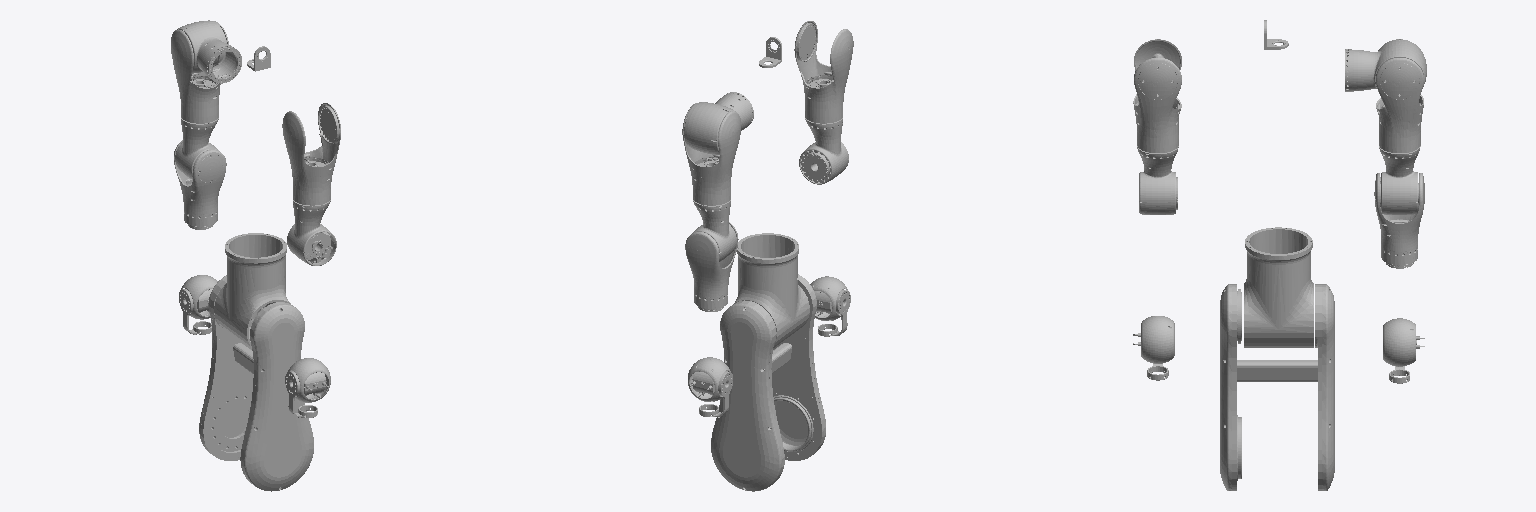
--- Render facts (derived) ---
The picture shows the robot from 3 angles, left to right: view 1: azimuth 30°, elevation 25°; view 2: azimuth 150°, elevation 25°; view 3: azimuth 270°, elevation 25°; orthographic projection.
Robot: CrpRobotDescription — 21 links, 20 joints (20 revolute); root link AMR_link; default pose: all joints at 0.
Visible links, largest first — view 1: thigh_Link, waist_Link, right_uperarm_Link, left_uperarm_Link, left_forearm_Link, leftshd_Link, right_elbow_Link, left_elbow_Link, right_wrist_Link, left_wrist_Link, right_hand_Link, left_hand_Link; view 2: thigh_Link, waist_Link, right_uperarm_Link, left_uperarm_Link, left_forearm_Link, leftshd_Link, right_elbow_Link, left_elbow_Link, left_wrist_Link, right_wrist_Link, left_hand_Link, right_hand_Link; view 3: thigh_Link, waist_Link, right_uperarm_Link, left_uperarm_Link, left_forearm_Link, right_elbow_Link, left_elbow_Link, leftshd_Link, right_wrist_Link, left_wrist_Link.
Boxes of the visible links, x1,y1,x2,y2 form: thigh_Link: (199,275,313,491); waist_Link: (214,233,290,347); right_uperarm_Link: (282,103,340,205); left_uperarm_Link: (171,21,228,123); left_forearm_Link: (174,140,226,229); leftshd_Link: (177,20,241,83); right_elbow_Link: (287,200,336,265); left_elbow_Link: (175,118,218,179); right_wrist_Link: (288,358,330,402); left_wrist_Link: (181,275,217,319); right_hand_Link: (285,371,317,417); left_hand_Link: (179,289,211,334); thigh_Link: (711,274,825,491); waist_Link: (734,233,809,347); right_uperarm_Link: (794,21,853,123); left_uperarm_Link: (682,103,740,205); left_forearm_Link: (685,222,738,311); leftshd_Link: (684,92,753,154); right_elbow_Link: (799,118,848,184); left_elbow_Link: (693,200,736,261); left_wrist_Link: (688,357,730,401); right_wrist_Link: (810,276,847,320); left_hand_Link: (699,371,732,416); right_hand_Link: (818,290,850,336); thigh_Link: (1220,284,1334,490); waist_Link: (1244,227,1313,347); right_uperarm_Link: (1133,39,1181,152); left_uperarm_Link: (1376,39,1423,152); left_forearm_Link: (1374,173,1424,268); right_elbow_Link: (1137,146,1178,214); left_elbow_Link: (1379,146,1420,214); leftshd_Link: (1345,39,1426,91); right_wrist_Link: (1133,316,1174,363); left_wrist_Link: (1383,318,1424,366).
Bounding box of the posed robot: 0.1799 × 0.6073 × 1.06 m (x, y, z).
Meshes: 21 distinct files referenced, 13 mesh visuals loaded (13 binary STL); not drawn: 8 (reference not matched to a file when rendering).

URDF robot description (CrpRobotDescription):
<?xml version="1.0" encoding="utf-8"?>
<!-- This URDF was automatically created by SolidWorks to URDF Exporter! Originally created by Stephen Brawner ([email redacted]) 
     Commit Version: 1.6.0-4-g7f85cfe  Build Version: 1.6.7995.38578
     For more information, please see http://wiki.ros.org/sw_urdf_exporter -->
<robot
  name="CrpRobotDescription">
  <link
    name="AMR_link">
    <inertial>
      <origin
        xyz="1.7067250104595E-06 -0.000630534395126906 0.23498436460573"
        rpy="0 0 0" />
      <mass
        value="15.6838298790596" />
      <inertia
        ixx="0.29273067004881"
        ixy="-0.000892145751909648"
        ixz="1.19710141560885E-08"
        iyy="0.621397679549303"
        iyz="-4.30982823485956E-06"
        izz="0.899723888567382" />
    </inertial>
    <visual>
      <origin
        xyz="0 0 0"
        rpy="0 0 0" />
      <geometry>
        <mesh
          filename="package://CrpRobotDescription/meshes/AMR_link.STL" />
      </geometry>
      <material
        name="">
        <color
          rgba="0.752941176470588 0.752941176470588 0.752941176470588 1" />
      </material>
    </visual>
    <collision>
      <origin
        xyz="0 0 0"
        rpy="0 0 0" />
      <geometry>
        <mesh
          filename="package://CrpRobotDescription/meshes/AMR_link.STL" />
      </geometry>
    </collision>
  </link>
  <link
    name="calf_Link">
    <inertial>
      <origin
        xyz="-1.9907E-07 0.013119 0.13964"
        rpy="0 0 0" />
      <mass
        value="19.211" />
      <inertia
        ixx="0.11342"
        ixy="-3.3299E-08"
        ixz="-2.8761E-08"
        iyy="0.11044"
        iyz="0.0004617"
        izz="0.062754" />
    </inertial>
    <visual>
      <origin
        xyz="0 0 0"
        rpy="0 0 0" />
      <geometry>
        <mesh
          filename="package://CrpRobotDescription/meshes/calf_Link.STL" />
      </geometry>
      <material
        name="">
        <color
          rgba="0.75294 0.75294 0.75294 1" />
      </material>
    </visual>
    <collision>
      <origin
        xyz="0 0 0"
        rpy="0 0 0" />
      <geometry>
        <mesh
          filename="package://CrpRobotDescription/meshes/calf_Link.STL" />
      </geometry>
    </collision>
  </link>
  <joint
    name="JT_ankle_pitch"
    type="revolute">
    <origin
      xyz="0 0 0.344"
      rpy="0 0 0" />
    <parent
      link="AMR_link" />
    <child
      link="calf_Link" />
    <axis
      xyz="0 -1 0" />
    <limit
      lower="-1.57"
      upper="1.57"
      effort="0"
      velocity="0" />
  </joint>
  <link
    name="thigh_Link">
    <inertial>
      <origin
        xyz="-1.2883E-07 -0.0050028 0.12937"
        rpy="0 0 0" />
      <mass
        value="3.6191" />
      <inertia
        ixx="0.041564"
        ixy="-4.7332E-10"
        ixz="-1.3554E-07"
        iyy="0.047009"
        iyz="0.00041827"
        izz="0.0074734" />
    </inertial>
    <visual>
      <origin
        xyz="0 0 0"
        rpy="0 0 0" />
      <geometry>
        <mesh
          filename="package://CrpRobotDescription/meshes/thigh_Link.STL" />
      </geometry>
      <material
        name="">
        <color
          rgba="0.75294 0.75294 0.75294 1" />
      </material>
    </visual>
    <collision>
      <origin
        xyz="0 0 0"
        rpy="0 0 0" />
      <geometry>
        <mesh
          filename="package://CrpRobotDescription/meshes/thigh_Link.STL" />
      </geometry>
    </collision>
  </link>
  <joint
    name="JT_knee_pitch"
    type="revolute">
    <origin
      xyz="0 0 0.28"
      rpy="0 0 0" />
    <parent
      link="calf_Link" />
    <child
      link="thigh_Link" />
    <axis
      xyz="0 -1 0" />
    <!-- <limit
      lower="-2.093"
      upper="2.093"
      effort="0"
      velocity="0" /> -->
    <limit
      lower="-1.571"
      upper="1.571"
      effort="0"
      velocity="0" />
  </joint>
  <link
    name="waist_Link">
    <inertial>
      <origin
        xyz="3.08982177258082E-08 0.00746163747499071 0.0708223424260894"
        rpy="0 0 0" />
      <mass
        value="11.0697374901141" />
      <inertia
        ixx="0.0269084125958022"
        ixy="1.3917210472165E-07"
        ixz="1.35564028293498E-08"
        iyy="0.0248391541928932"
        iyz="0.000208916767385605"
        izz="0.0207393365737641" />
    </inertial>
    <visual>
      <origin
        xyz="0 0 0"
        rpy="0 0 0" />
      <geometry>
        <mesh
          filename="package://CrpRobotDescription/meshes/waist_Link.STL" />
      </geometry>
      <material
        name="">
        <color
          rgba="0.752941176470588 0.752941176470588 0.752941176470588 1" />
      </material>
    </visual>
    <collision>
      <origin
        xyz="0 0 0"
        rpy="0 0 0" />
      <geometry>
        <mesh
          filename="package://CrpRobotDescription/meshes/waist_Link.STL" />
      </geometry>
    </collision>
  </link>
  <joint
    name="JT_waist_pitch"
    type="revolute">
    <origin
      xyz="0 0 0.3"
      rpy="0 0 0" />
    <parent
      link="thigh_Link" />
    <child
      link="waist_Link" />
    <axis
      xyz="0 -1 0" />
    <!-- <limit
      lower="-2.093"
      upper="2.093"
      effort="0"
      velocity="0" /> -->
      <limit
      lower="-1.571"
      upper="1.571"
      effort="0"
      velocity="0" />
  </joint>
  <link
    name="body_Link">
    <inertial>
      <origin
        xyz="-0.0157302561834629 -0.000921159048584068 0.26491560483905"
        rpy="0 0 0" />
      <mass
        value="11.5278159662407" />
      <inertia
        ixx="0.0917732697191284"
        ixy="5.55557523543435E-06"
        ixz="-0.00184407199578961"
        iyy="0.0777548884223376"
        iyz="7.9609997315152E-05"
        izz="0.0530884459020407" />
    </inertial>
    <visual>
      <origin
        xyz="0 0 0"
        rpy="0 0 0" />
      <geometry>
        <mesh
          filename="package://CrpRobotDescription/meshes/body_Link.STL" />
      </geometry>
      <material
        name="">
        <color
          rgba="0.752941176470588 0.752941176470588 0.752941176470588 1" />
      </material>
    </visual>
    <collision>
      <origin
        xyz="0 0 0"
        rpy="0 0 0" />
      <geometry>
        <mesh
          filename="package://CrpRobotDescription/meshes/body_Link.STL" />
      </geometry>
    </collision>
  </link>
  <joint
    name="JT_waist_yaw"
    type="revolute">
    <origin
      xyz="0 0 0.16"
      rpy="0 0 0" />
    <parent
      link="waist_Link" />
    <child
      link="body_Link" />
    <axis
      xyz="0 0 -1" />
    <limit
      lower="-3.1416"
      upper="3.1416"
      effort="0"
      velocity="0" />
  </joint>
  <link
    name="neck_Link">
    <inertial>
      <origin
        xyz="9.45679100606626E-16 -0.0137500941466434 0.00912839009985378"
        rpy="0 0 0" />
      <mass
        value="0.0237571247428503" />
      <inertia
        ixx="4.88516309171337E-06"
        ixy="8.43724224804088E-23"
        ixz="-1.15917067365382E-21"
        iyy="5.16930498087681E-06"
        iyz="-2.12533733733979E-08"
        izz="6.83012107406235E-06" />
    </inertial>
    <visual>
      <origin
        xyz="0 0 0"
        rpy="0 0 0" />
      <geometry>
        <mesh
          filename="package://CrpRobotDescription/meshes/neck_Link.STL" />
      </geometry>
      <material
        name="">
        <color
          rgba="0.752941176470588 0.752941176470588 0.752941176470588 1" />
      </material>
    </visual>
    <collision>
      <origin
        xyz="0 0 0"
        rpy="0 0 0" />
      <geometry>
        <mesh
          filename="package://CrpRobotDescription/meshes/neck_Link.STL" />
      </geometry>
    </collision>
  </link>
  <joint
    name="JT_head_yaw"
    type="revolute">
    <origin
      xyz="0 0 0.457"
      rpy="0 0 0" />
    <parent
      link="body_Link" />
    <child
      link="neck_Link" />
    <axis
      xyz="0 0 1" />
    <limit
      lower="-3.14"
      upper="3.14"
      effort="0"
      velocity="0" />
  </joint>
  <link
    name="head_Link">
    <inertial>
      <origin
        xyz="0.0155377524095807 0.0247052496791913 0.126485391722255"
        rpy="0 0 0" />
      <mass
        value="1.21249497507802" />
      <inertia
        ixx="0.00468790853060461"
        ixy="-4.51995700321224E-07"
        ixz="2.99050148402908E-05"
        iyy="0.00401641938151872"
        iyz="-3.59037238584987E-06"
        izz="0.00477006543276291" />
    </inertial>
    <visual>
      <origin
        xyz="0 0 0"
        rpy="0 0 0" />
      <geometry>
        <mesh
          filename="package://CrpRobotDescription/meshes/head_Link.STL" />
      </geometry>
      <material
        name="">
        <color
          rgba="0.752941176470588 0.752941176470588 0.752941176470588 1" />
      </material>
    </visual>
    <collision>
      <origin
        xyz="0 0 0"
        rpy="0 0 0" />
      <geometry>
        <mesh
          filename="package://CrpRobotDescription/meshes/head_Link.STL" />
      </geometry>
    </collision>
  </link>
  <joint
    name="JT_head_pitch"
    type="revolute">
    <origin
      xyz="0 -0.025 0.035"
      rpy="0 0 0" />
    <parent
      link="neck_Link" />
    <child
      link="head_Link" />
    <axis
      xyz="0 -1 0" />
    <limit
      lower="-0.734"
      upper="1.467"
      effort="0"
      velocity="0" />
  </joint>
  <link
    name="leftshd_Link">
    <inertial>
      <origin
        xyz="0.00560451544572575 0.0752684073133717 -3.17283219364306E-06"
        rpy="0 0 0" />
      <mass
        value="1.51462230972284" />
      <inertia
        ixx="0.00138091319626636"
        ixy="-2.90093852134569E-06"
        ixz="3.40418749991194E-09"
        iyy="0.00124128503134948"
        iyz="2.66878486378639E-08"
        izz="0.00135309461283093" />
    </inertial>
    <visual>
      <origin
        xyz="0 0 0"
        rpy="0 0 0" />
      <geometry>
        <mesh
          filename="package://CrpRobotDescription/meshes/leftshd_Link.STL" />
      </geometry>
      <material
        name="">
        <color
          rgba="0.752941176470588 0.752941176470588 0.752941176470588 1" />
      </material>
    </visual>
    <collision>
      <origin
        xyz="0 0 0"
        rpy="0 0 0" />
      <geometry>
        <mesh
          filename="package://CrpRobotDescription/meshes/leftshd_Link.STL" />
      </geometry>
    </collision>
  </link>
  <joint
    name="JT_leftshd_pitch"
    type="revolute">
    <origin
      xyz="0 0.165 0.4"
      rpy="0 0 0" />
    <parent
      link="body_Link" />
    <child
      link="leftshd_Link" />
    <axis
      xyz="0 -1 0" />
    <limit
      lower="-3.14"
      upper="3.14"
      effort="0"
      velocity="0" />
  </joint>
  <link
    name="left_uperarm_Link">
    <inertial>
      <origin
        xyz="0.0013528 0.00040387 -0.10882"
        rpy="0 0 0" />
      <mass
        value="1.3479" />
      <inertia
        ixx="0.0021852"
        ixy="5.3642E-07"
        ixz="1.231E-07"
        iyy="0.0019874"
        iyz="9.0639E-06"
        izz="0.00081159" />
    </inertial>
    <visual>
      <origin
        xyz="0 0 0"
        rpy="0 0 0" />
      <geometry>
        <mesh
          filename="package://CrpRobotDescription/meshes/left_uperarm_Link.STL" />
      </geometry>
      <material
        name="">
        <color
          rgba="0.75294 0.75294 0.75294 1" />
      </material>
    </visual>
    <collision>
      <origin
        xyz="0 0 0"
        rpy="0 0 0" />
      <geometry>
        <mesh
          filename="package://CrpRobotDescription/meshes/left_uperarm_Link.STL" />
      </geometry>
    </collision>
  </link>
  <joint
    name="JT_leftshd_roll"
    type="revolute">
    <origin
      xyz="-0.00022992 0.084701 0"
      rpy="0 0 0" />
    <parent
      link="leftshd_Link" />
    <child
      link="left_uperarm_Link" />
    <axis
      xyz="1 0 0" />
    <!-- <limit
      lower="0"
      upper="3.14"
      effort="0"
      velocity="0" /> -->
    <limit
      lower="-3.14"
      upper="3.14"
      effort="0"
      velocity="0" />
  </joint>
  <link
    name="left_elbow_Link">
    <inertial>
      <origin
        xyz="-0.000469035624493089 -0.00773012087866784 0.0103684255989351"
        rpy="0 0 0" />
      <mass
        value="1.24768830275529" />
      <inertia
        ixx="0.00121532572681743"
        ixy="6.54388475224281E-09"
        ixz="1.99981226434696E-05"
        iyy="0.00133413492028562"
        iyz="4.76396943963314E-10"
        izz="0.000775182411508688" />
    </inertial>
    <visual>
      <origin
        xyz="0 0 0"
        rpy="0 0 0" />
      <geometry>
        <mesh
          filename="package://CrpRobotDescription/meshes/left_elbow_Link.STL" />
      </geometry>
      <material
        name="">
        <color
          rgba="0.752941176470588 0.752941176470588 0.752941176470588 1" />
      </material>
    </visual>
    <collision>
      <origin
        xyz="0 0 0"
        rpy="0 0 0" />
      <geometry>
        <mesh
          filename="package://CrpRobotDescription/meshes/left_elbow_Link.STL" />
      </geometry>
    </collision>
  </link>
  <joint
    name="JT_leftshd_yaw"
    type="revolute">
    <origin
      xyz="0 0 -0.28"
      rpy="0 0 0" />
    <parent
      link="left_uperarm_Link" />
    <child
      link="left_elbow_Link" />
    <axis
      xyz="0 0 -1" />
    <limit
      lower="-3.14"
      upper="3.14"
      effort="0"
      velocity="0" />
  </joint>
  <link
    name="left_forearm_Link">
    <inertial>
      <origin
        xyz="0.00170875791311913 2.09454223620564E-05 -0.115440636276309"
        rpy="0 0 0" />
      <mass
        value="0.838030981878656" />
      <inertia
        ixx="0.000681410407682389"
        ixy="1.76068509156145E-07"
        ixz="4.93380589793723E-06"
        iyy="0.000746089581983907"
        iyz="-1.15469925730019E-05"
        izz="0.000350947107881828" />
    </inertial>
    <visual>
      <origin
        xyz="0 0 0"
        rpy="0 0 0" />
      <geometry>
        <mesh
          filename="package://CrpRobotDescription/meshes/left_forearm_Link.STL" />
      </geometry>
      <material
        name="">
        <color
          rgba="0.752941176470588 0.752941176470588 0.752941176470588 1" />
      </material>
    </visual>
    <collision>
      <origin
        xyz="0 0 0"
        rpy="0 0 0" />
      <geometry>
        <mesh
          filename="package://CrpRobotDescription/meshes/left_forearm_Link.STL" />
      </geometry>
    </collision>
  </link>
  <joint
    name="JT_leftelbow_pitch"
    type="revolute">
    <origin
      xyz="0 0 0"
      rpy="0 0 0" />
    <parent
      link="left_elbow_Link" />
    <child
      link="left_forearm_Link" />
    <axis
      xyz="0 -1 0" />
    <!-- <limit
      lower="-2.617"
      upper="0"
      effort="0"
      velocity="0" /> -->
    <limit
      lower="-1.571"
      upper="1.927"
      effort="0"
      velocity="0" />
  </joint>
  <link
    name="left_fa_Link">
    <inertial>
      <origin
        xyz="0.00138547739780884 0.00787804338462211 -0.0937607749202922"
        rpy="0 0 0" />
      <mass
        value="1.0436993253593" />
      <inertia
        ixx="0.00211878328999715"
        ixy="-1.3857899093755E-06"
        ixz="2.08078554284944E-05"
        iyy="0.00230055998833744"
        iyz="0.000106700060266832"
        izz="0.000714813913081732" />
    </inertial>
    <visual>
      <origin
        xyz="0 0 0"
        rpy="0 0 0" />
      <geometry>
        <mesh
          filename="package://CrpRobotDescription/meshes/left_fa_Link.STL" />
      </geometry>
      <material
        name="">
        <color
          rgba="0.752941176470588 0.752941176470588 0.752941176470588 1" />
      </material>
    </visual>
    <collision>
      <origin
        xyz="0 0 0"
        rpy="0 0 0" />
      <geometry>
        <mesh
          filename="package://CrpRobotDescription/meshes/left_fa_Link.STL" />
      </geometry>
    </collision>
  </link>
  <joint
    name="JT_leftwrist_yaw"
    type="revolute">
    <origin
      xyz="0.0021831 0 -0.14753"
      rpy="0 0 0" />
    <parent
      link="left_forearm_Link" />
    <child
      link="left_fa_Link" />
    <axis
      xyz="0 0 1" />
    <limit
      lower="-3.14"
      upper="3.14"
      effort="0"
      velocity="0" />
  </joint>
  <link
    name="left_wrist_Link">
    <inertial>
      <origin
        xyz="-0.0047099 3.3576E-05 -6.6161E-05"
        rpy="0 0 0" />
      <mass
        value="0.51727" />
      <inertia
        ixx="0.00018655"
        ixy="5.8975E-09"
        ixz="-8.9123E-07"
        iyy="0.00030014"
        iyz="-2.3651E-08"
        izz="0.00024769" />
    </inertial>
    <visual>
      <origin
        xyz="0 0 0"
        rpy="0 0 0" />
      <geometry>
        <mesh
          filename="package://CrpRobotDescription/meshes/left_wrist_Link.STL" />
      </geometry>
      <material
        name="">
        <color
          rgba="0.75294 0.75294 0.75294 1" />
      </material>
    </visual>
    <collision>
      <origin
        xyz="0 0 0"
        rpy="0 0 0" />
      <geometry>
        <mesh
          filename="package://CrpRobotDescription/meshes/left_wrist_Link.STL" />
      </geometry>
    </collision>
  </link>
  <joint
    name="JT_leftwrist_pitch"
    type="revolute">
    <origin
      xyz="0.0028123 0 -0.19003"
      rpy="0 0 0" />
    <parent
      link="left_fa_Link" />
    <child
      link="left_wrist_Link" />
    <axis
      xyz="0 -1 0" />
    <!-- <limit
      lower="-2.093"
      upper="2.093"
      effort="0"
      velocity="0" /> -->
    <limit
      lower="-1.571"
      upper="1.571"
      effort="0"
      velocity="0" />
  </joint>
  <link
    name="left_hand_Link">
    <inertial>
      <origin
        xyz="-0.032674974093459 -5.4787381714716E-08 -0.0238995615166012"
        rpy="0 0 0" />
      <mass
        value="0.0289894815501375" />
      <inertia
        ixx="4.10229647236947E-05"
        ixy="1.72908378444887E-11"
        ixz="1.16357488865126E-05"
        iyy="4.41535469408514E-05"
        iyz="-8.9542249162528E-11"
        izz="1.36432758426506E-05" />
    </inertial>
    <visual>
      <origin
        xyz="0 0 0"
        rpy="0 0 0" />
      <geometry>
        <mesh
          filename="package://CrpRobotDescription/meshes/left_hand_Link.STL" />
      </geometry>
      <material
        name="">
        <color
          rgba="0.752941176470588 0.752941176470588 0.752941176470588 1" />
      </material>
    </visual>
    <collision>
      <origin
        xyz="0 0 0"
        rpy="0 0 0" />
      <geometry>
        <mesh
          filename="package://CrpRobotDescription/meshes/left_hand_Link.STL" />
      </geometry>
    </collision>
  </link>
  <joint
    name="JT_leftwrist_roll"
    type="revolute">
    <origin
      xyz="0 0 0"
      rpy="0 0 0" />
    <parent
      link="left_wrist_Link" />
    <child
      link="left_hand_Link" />
    <axis
      xyz="1 0 0" />
    <limit
      lower="-1.0467"
      upper="1.0467"
      effort="0"
      velocity="0" />
  </joint>
  <link
    name="right_shd_Link">
    <inertial>
      <origin
        xyz="0.00478865500239273 -0.0754731321882146 -2.95614601908412E-07"
        rpy="0 0 0" />
      <mass
        value="1.55314721523229" />
      <inertia
        ixx="0.00139388373434682"
        ixy="3.67583072312186E-06"
        ixz="-3.54902419152739E-09"
        iyy="0.00124804914876028"
        iyz="2.66689741566151E-08"
        izz="0.00135982307105485" />
    </inertial>
    <visual>
      <origin
        xyz="0 0 0"
        rpy="0 0 0" />
      <geometry>
        <mesh
          filename="package://CrpRobotDescription/meshes/right_shd_Link.STL" />
      </geometry>
      <material
        name="">
        <color
          rgba="0.752941176470588 0.752941176470588 0.752941176470588 1" />
      </material>
    </visual>
    <collision>
      <origin
        xyz="0 0 0"
        rpy="0 0 0" />
      <geometry>
        <mesh
          filename="package://CrpRobotDescription/meshes/right_shd_Link.STL" />
      </geometry>
    </collision>
  </link>
  <joint
    name="JT_rightshd_pitch"
    type="revolute">
    <origin
      xyz="0 -0.165 0.4"
      rpy="0 0 -0.0027145" />
    <parent
      link="body_Link" />
    <child
      link="right_shd_Link" />
    <axis
      xyz="0 -1 0" />
    <limit
      lower="-3.14"
      upper="3.14"
      effort="0"
      velocity="0" />
  </joint>
  <link
    name="right_uperarm_Link">
    <inertial>
      <origin
        xyz="0.00190172861064099 -0.00022583111147792 -0.115057199743876"
        rpy="0 0 0" />
      <mass
        value="1.17436367399526" />
      <inertia
        ixx="0.0013663655269449"
        ixy="6.89359475681241E-07"
        ixz="8.38370706872628E-06"
        iyy="0.00126174606915089"
        iyz="-4.55504240546967E-06"
        izz="0.000645244827582288" />
    </inertial>
    <visual>
      <origin
        xyz="0 0 0"
        rpy="0 0 0" />
      <geometry>
        <mesh
          filename="package://CrpRobotDescription/meshes/right_uperarm_Link.STL" />
      </geometry>
      <material
        name="">
        <color
          rgba="0.752941176470588 0.752941176470588 0.752941176470588 1" />
      </material>
    </visual>
    <collision>
      <origin
        xyz="0 0 0"
        rpy="0 0 0" />
      <geometry>
        <mesh
          filename="package://CrpRobotDescription/meshes/right_uperarm_Link.STL" />
      </geometry>
    </collision>
  </link>
  <joint
    name="JT_rightshd_roll"
    type="revolute">
    <origin
      xyz="0.00012987 -0.0847 0"
      rpy="0 0 0" />
    <parent
      link="right_shd_Link" />
    <child
      link="right_uperarm_Link" />
    <axis
      xyz="-1 0 0" />
    <!-- <limit
      lower="-3.14"
      upper="0"
      effort="0"
      velocity="0" /> -->
    <limit
      lower="-3.14"
      upper="3.14"
      effort="0"
      velocity="0" />
  </joint>
  <link
    name="right_elbow_Link">
    <inertial>
      <origin
        xyz="-0.000285729313235844 0.00894022880819764 -0.10180100361848"
        rpy="0 0 0" />
      <mass
        value="1.11829326865163" />
      <inertia
        ixx="0.000874438833675437"
        ixy="-2.77292153554777E-07"
        ixz="9.99153934880461E-06"
        iyy="0.000905932745478592"
        iyz="3.86401325180305E-06"
        izz="0.000657724816801661" />
    </inertial>
    <visual>
      <origin
        xyz="0 0 0"
        rpy="0 0 0" />
      <geometry>
        <mesh
          filename="package://CrpRobotDescription/meshes/right_elbow_Link.STL" />
      </geometry>
      <material
        name="">
        <color
          rgba="0.752941176470588 0.752941176470588 0.752941176470588 1" />
      </material>
    </visual>
    <collision>
      <origin
        xyz="0 0 0"
        rpy="0 0 0" />
      <geometry>
        <mesh
          filename="package://CrpRobotDescription/meshes/right_elbow_Link.STL" />
      </geometry>
    </collision>
  </link>
  <joint
    name="JT_rightshd_yaw"
    type="revolute">
    <origin
      xyz="0 0 -0.1712"
      rpy="0 0 0" />
    <parent
      link="right_uperarm_Link" />
    <child
      link="right_elbow_Link" />
    <axis
      xyz="0 0 -1" />
    <limit
      lower="-3.41"
      upper="3.14"
      effort="0"
      velocity="0" />
  </joint>
  <link
    name="right_forearm_Link">
    <inertial>
      <origin
        xyz="-0.00127306719185454 -0.00207281511531857 -0.0495628095330389"
        rpy="0 0 0" />
      <mass
        value="0.145846561161935" />
      <inertia
        ixx="0.000353781269427774"
        ixy="1.19605556274988E-07"
        ixz="-6.22195474924909E-06"
        iyy="0.000419210895002405"
        iyz="1.15109860447654E-05"
        izz="0.000115249397341405" />
    </inertial>
    <visual>
      <origin
        xyz="0 0 0"
        rpy="0 0 0" />
      <geometry>
        <mesh
          filename="package://CrpRobotDescription/meshes/right_forearm_Link.STL" />
      </geometry>
      <material
        name="">
        <color
          rgba="0.752941176470588 0.752941176470588 0.752941176470588 1" />
      </material>
    </visual>
    <collision>
      <origin
        xyz="0 0 0"
        rpy="0 0 0" />
      <geometry>
        <mesh
          filename="package://CrpRobotDescription/meshes/right_forearm_Link.STL" />
      </geometry>
    </collision>
  </link>
  <joint
    name="JT_rightelbow_pitch"
    type="revolute">
    <origin
      xyz="0 0 -0.1088"
      rpy="0 0 0" />
    <parent
      link="right_elbow_Link" />
    <child
      link="right_forearm_Link" />
    <axis
      xyz="0 -1 0" />
    <!-- <limit
      lower="-1.5"
      upper="1.75"
      effort="0"
      velocity="0" /> -->
    <limit
      lower="-1.571"
      upper="1.927"
      effort="0"
      velocity="0" />
  </joint>
  <link
    name="right_armend_Link">
    <inertial>
      <origin
        xyz="-0.00247797311658699 -0.00930860320061133 -0.0964216036983219"
        rpy="0 0 0" />
      <mass
        value="0.607042041683229" />
      <inertia
        ixx="0.00194076323193106"
        ixy="-3.29910078269916E-06"
        ixz="-3.61680757300729E-05"
        iyy="0.00220775081990313"
        iyz="-0.000106776986063021"
        izz="0.000538055572851429" />
    </inertial>
    <visual>
      <origin
        xyz="0 0 0"
        rpy="0 0 0" />
      <geometry>
        <mesh
          filename="package://CrpRobotDescription/meshes/right_armend_Link.STL" />
      </geometry>
      <material
        name="">
        <color
          rgba="0.752941176470588 0.752941176470588 0.752941176470588 1" />
      </material>
    </visual>
    <collision>
      <origin
        xyz="0 0 0"
        rpy="0 0 0" />
      <geometry>
        <mesh
          filename="package://CrpRobotDescription/meshes/right_armend_Link.STL" />
      </geometry>
    </collision>
  </link>
  <joint
    name="JT_rightwrist_yaw"
    type="revolute">
    <origin
      xyz="-0.0038267 -1.0052E-05 -0.14748"
      rpy="0 0 0" />
    <parent
      link="right_forearm_Link" />
    <child
      link="right_armend_Link" />
    <axis
      xyz="0 0 1" />
    <limit
      lower="-3.14"
      upper="3.14"
      effort="0"
      velocity="0" />
  </joint>
  <link
    name="right_wrist_Link">
    <inertial>
      <origin
        xyz="0.00444258219255302 -0.000815156595584482 -9.73719601342626E-05"
        rpy="0 0 0" />
      <mass
        value="0.0805979654849317" />
      <inertia
        ixx="9.37268278354076E-05"
        ixy="2.08310512761858E-07"
        ixz="-6.35316704544093E-07"
        iyy="0.000122740004465003"
        iyz="-2.95118712045291E-08"
        izz="7.03259567600118E-05" />
    </inertial>
    <visual>
      <origin
        xyz="0 0 0"
        rpy="0 0 0" />
      <geometry>
        <mesh
          filename="package://CrpRobotDescription/meshes/right_wrist_Link.STL" />
      </geometry>
      <material
        name="">
        <color
          rgba="0.752941176470588 0.752941176470588 0.752941176470588 1" />
      </material>
    </visual>
    <collision>
      <origin
        xyz="0 0 0"
        rpy="0 0 0" />
      <geometry>
        <mesh
          filename="package://CrpRobotDescription/meshes/right_wrist_Link.STL" />
      </geometry>
    </collision>
  </link>
  <joint
    name="JT_rightwrist_pitch"
    type="revolute">
    <origin
      xyz="-0.0049299 -1.3273E-05 -0.19001"
      rpy="0 0 0" />
    <parent
      link="right_armend_Link" />
    <child
      link="right_wrist_Link" />
    <axis
      xyz="0 -1 0" />
    <!-- <limit
      lower="-2.093"
      upper="2.093"
      effort="0"
      velocity="0" /> -->
    <limit
      lower="-1.571"
      upper="1.571"
      effort="0"
      velocity="0" />
  </joint>
  <link
    name="right_hand_Link">
    <inertial>
      <origin
        xyz="-0.0336605901814651 -2.57465835318271E-08 -0.0224901672688335"
        rpy="0 0 0" />
      <mass
        value="0.0289894821031318" />
      <inertia
        ixx="4.19611062166627E-05"
        ixy="1.55624925361062E-12"
        ixz="1.04319003687455E-05"
        iyy="4.41535476074445E-05"
        iyz="-5.48180651052036E-11"
        izz="1.27051350295092E-05" />
    </inertial>
    <visual>
      <origin
        xyz="0 0 0"
        rpy="0 0 0" />
      <geometry>
        <mesh
          filename="package://CrpRobotDescription/meshes/right_hand_Link.STL" />
      </geometry>
      <material
        name="">
        <color
          rgba="0.752941176470588 0.752941176470588 0.752941176470588 1" />
      </material>
    </visual>
    <collision>
      <origin
        xyz="0 0 0"
        rpy="0 0 0" />
      <geometry>
        <mesh
          filename="package://CrpRobotDescription/meshes/right_hand_Link.STL" />
      </geometry>
    </collision>
  </link>
  <joint
    name="JT_rightwrist_roll"
    type="revolute">
    <origin
      xyz="0 0 0"
      rpy="0 0 0" />
    <parent
      link="right_wrist_Link" />
    <child
      link="right_hand_Link" />
    <axis
      xyz="1 0 0" />
    <limit
      lower="-1.0467"
      upper="1.0467"
      effort="0"
      velocity="0" />
  </joint>
</robot>
